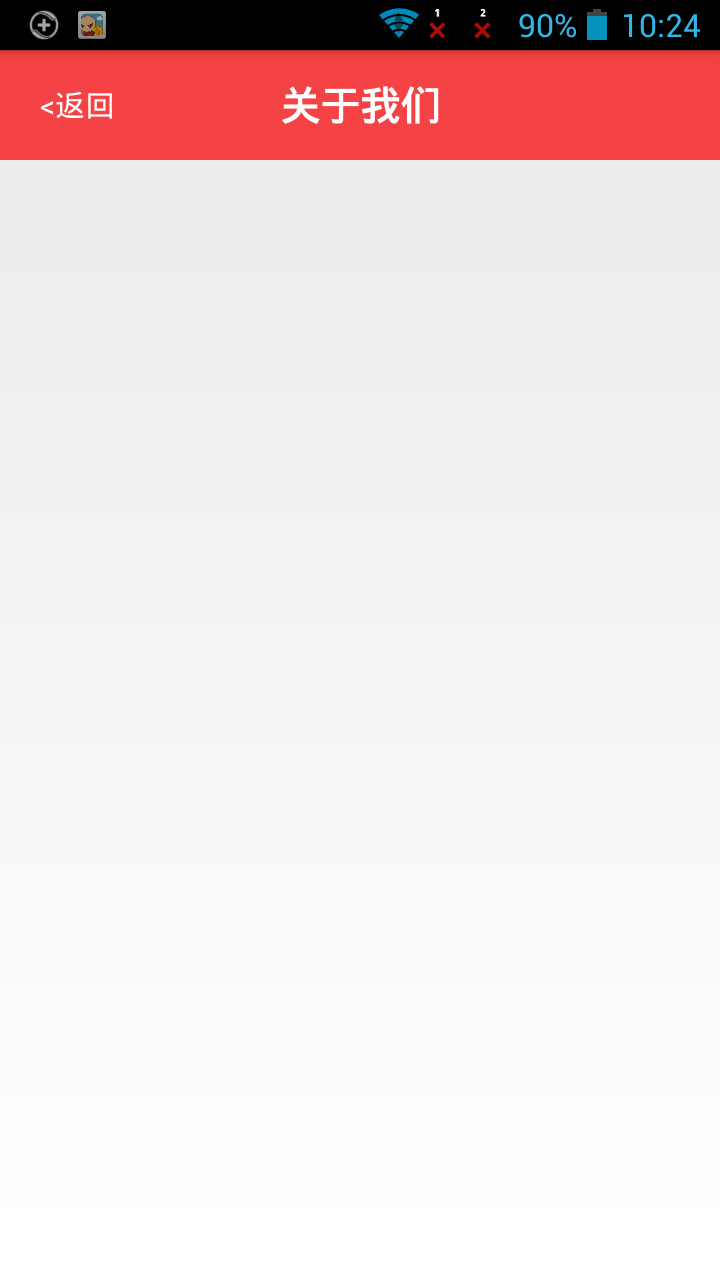button: (25, 84, 139, 131)
